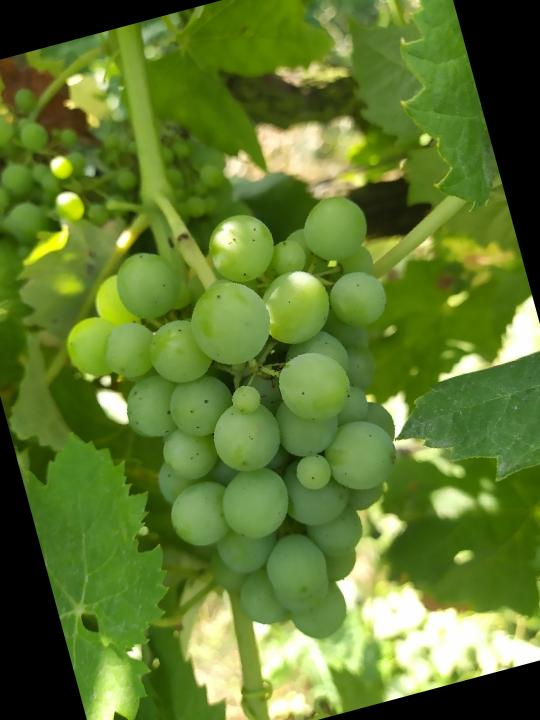grape: (42, 181, 471, 687)
